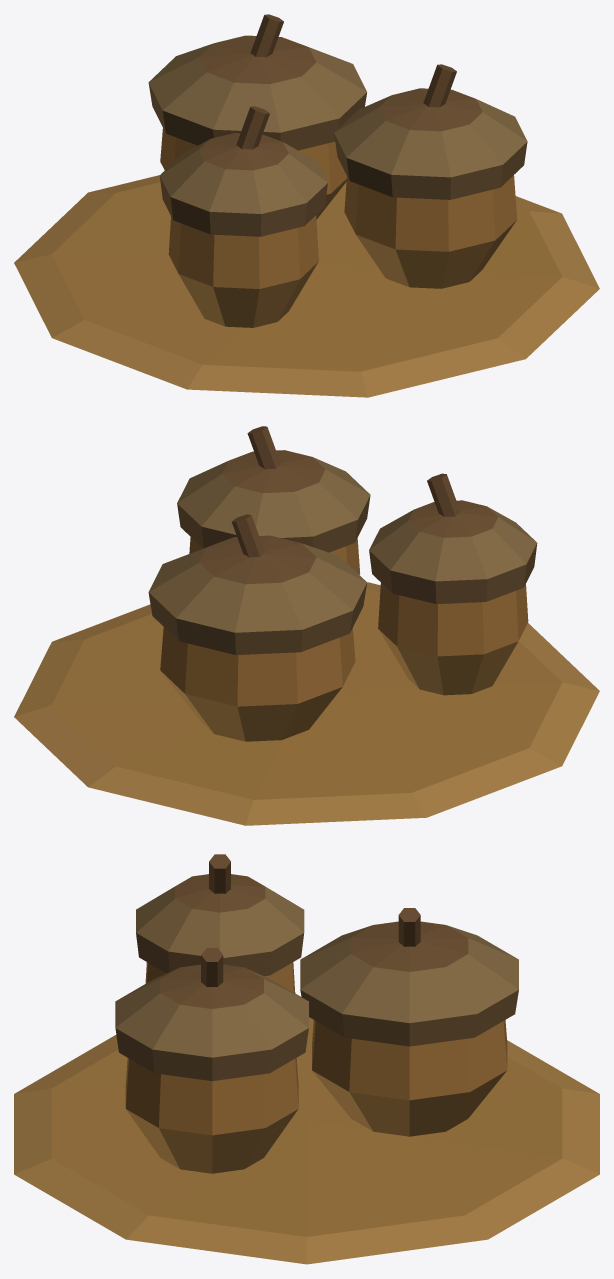
The model's file is WoodlandAcorns.glb.
3 renders of one model, top to bottom at view 1: azimuth 30°, elevation 25°; view 2: azimuth 150°, elevation 25°; view 3: azimuth 270°, elevation 25°, orthographic. The views are drawn at different scales.
Visible parts, largest first — view 1: WoodlandAcorns_Arrangement; view 2: WoodlandAcorns_Arrangement; view 3: WoodlandAcorns_Arrangement.
Boxes of the visible parts, x1=… form: WoodlandAcorns_Arrangement: x1=14, y1=14, x2=599, y2=397; WoodlandAcorns_Arrangement: x1=14, y1=426, x2=599, y2=825; WoodlandAcorns_Arrangement: x1=14, y1=854, x2=599, y2=1264.
Bounding box in the file's own units: 0.78 × 0.3347 × 0.7418.
